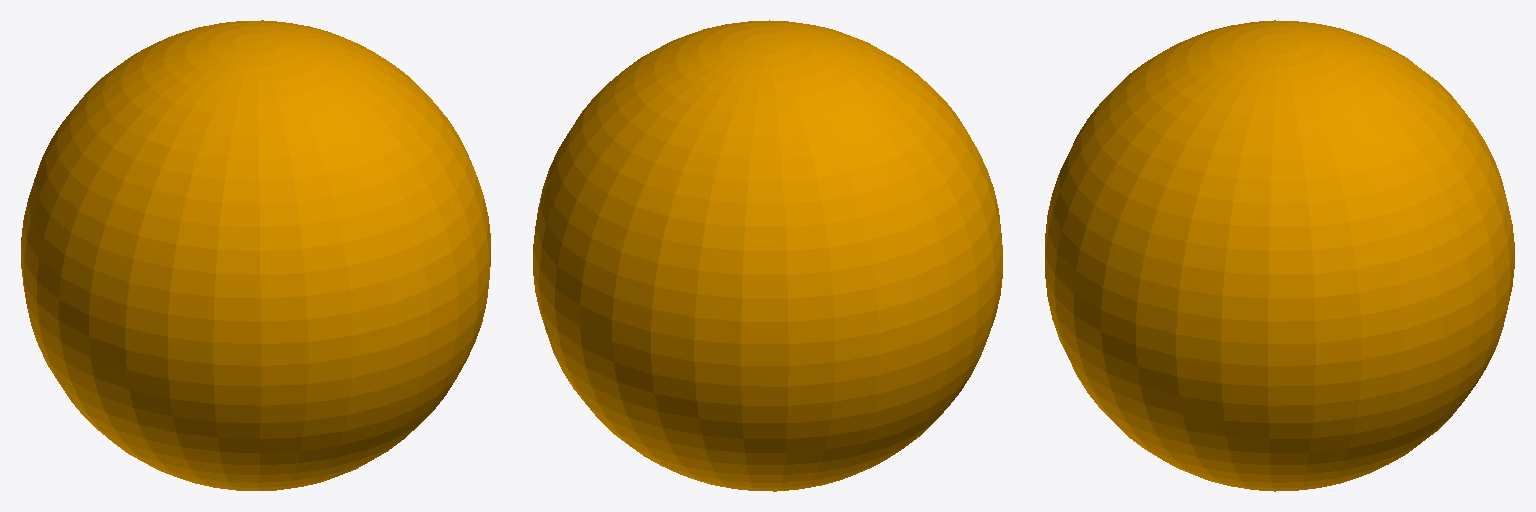
robot.urdf — none:
<robot name="none">
       <link name="none">
           <visual>
               <origin rpy="1.57 0 0" xyz="0 0 0" />
               <geometry>
                   <mesh filename="basketball.obj" />
               </geometry>
           </visual>
          <collision>
              <geometry>
                  <box size="0.997433 1.000000 0.996267" />
              </geometry>
          </collision>

          <inertial>
            <mass value="0.0" />
            <inertia ixx="0.0" ixy="0.0" ixz="0.0" iyy="0.0" iyz="0.0" izz="0.0" />
          </inertial>
      </link>
  </robot>

--- Facts derived from the render (not from the file) ---
Views: 3 orthographic renders of the robot side by side, from view 1: azimuth 30°, elevation 25°; view 2: azimuth 150°, elevation 25°; view 3: azimuth 270°, elevation 25°.
Model none with 1 links and 0 joints (none), rooted at none, posed all joints at 0.
Links seen in each view (by area): view 1: none; view 2: none; view 3: none.
Boxes of the visible links, <box> form: none: <box>21,20,490,490</box>; none: <box>533,20,1002,491</box>; none: <box>1045,20,1514,491</box>.
Size in the robot's own frame: 0.9974 by 0.9963 by 1 metres.
1 mesh visuals loaded from 1 distinct referenced files (1 OBJ).